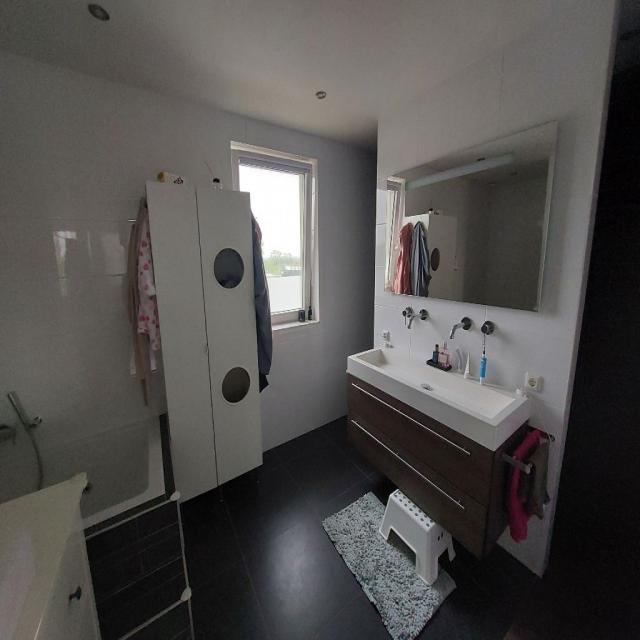bath: (0, 410, 166, 531)
wastafel: (348, 376, 530, 563), (347, 305, 532, 427)
